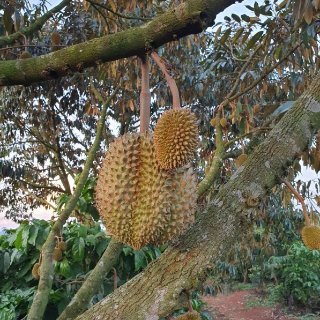sau_rieng: (93, 129, 173, 254), (151, 104, 202, 171)
